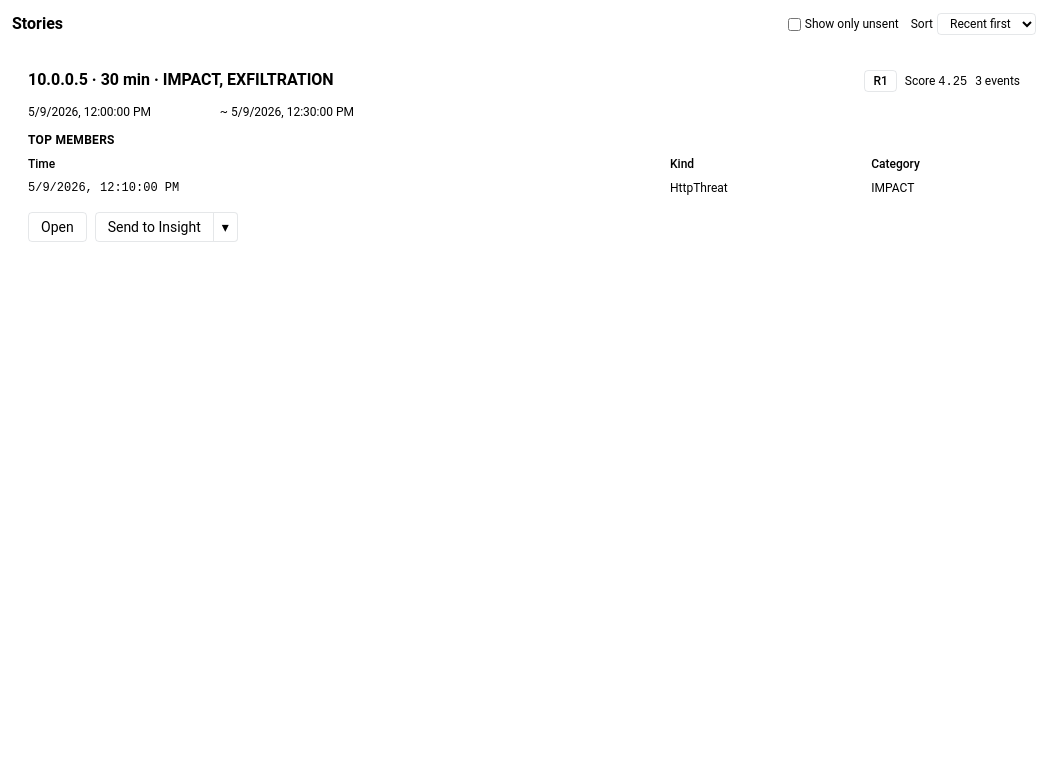
it: TriageStoriesView — negative AI-analysis results are cached (#653) › re-fetches a Story's summary after a successful send
Step 1. Click the button with test id "triage-story-send" → (154, 227), box [95, 212, 214, 242]
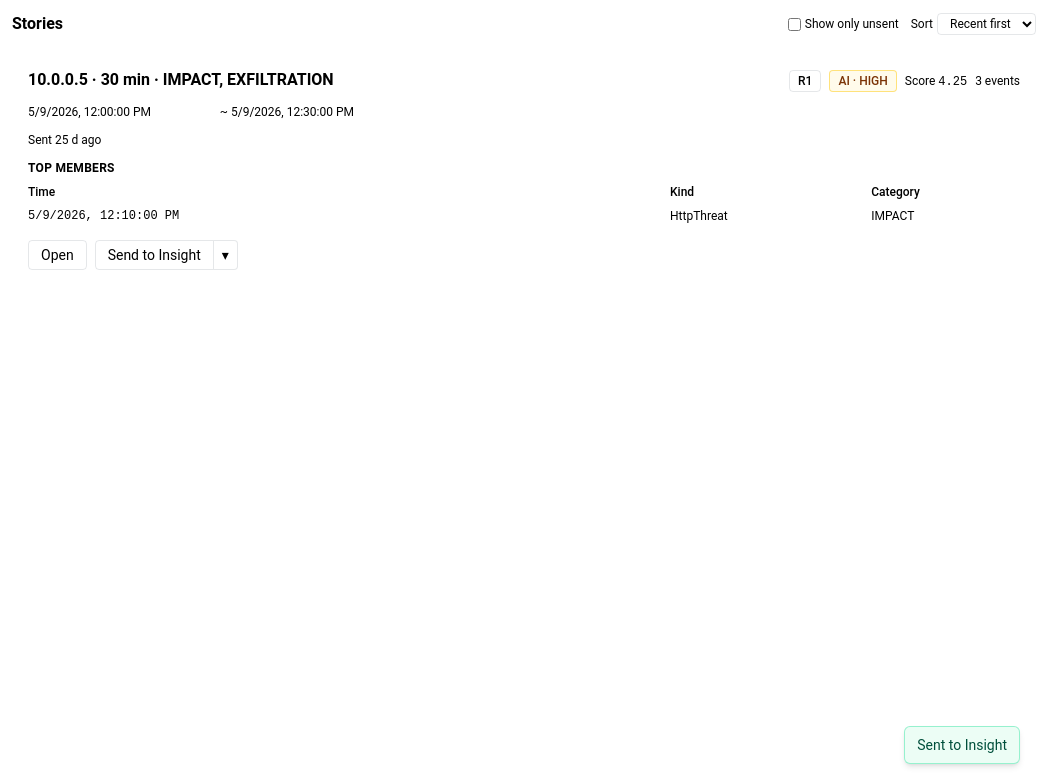
Expected: the link with test id "triage-story-ai-analysis-badge" is shown, [829, 70, 897, 92]
